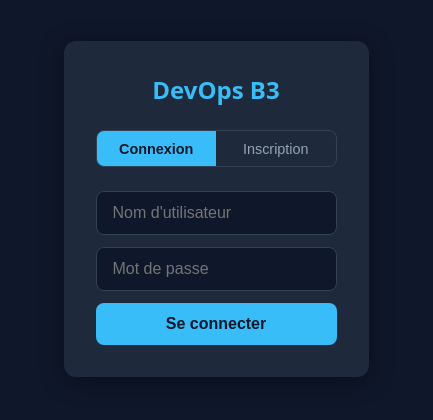
Test: AuthForm – connexion › affiche un message d'erreur si le fetch échoue (réseau)
This screenshot has width=433, height=420.
Type "alice" into the field with placeholder "Nom d'utilisateur" at (216, 213), box [96,191,336,235]
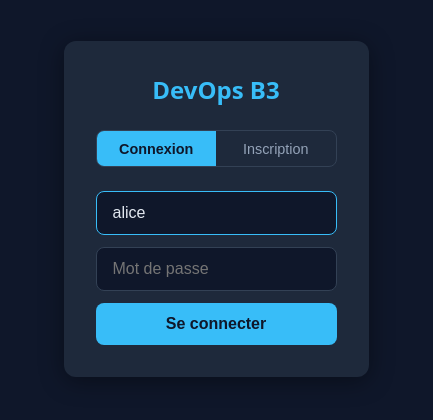
Type "secret" into the password field with placeholder "Mot de passe" at (216, 269), box [96,247,336,291]
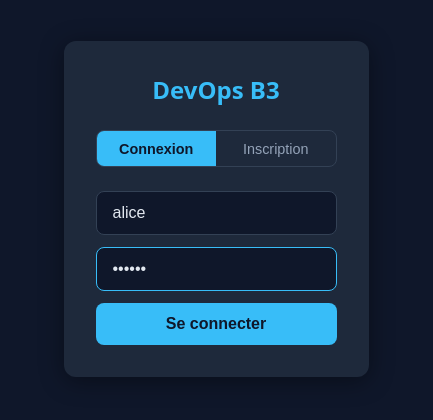
Click the button "Se connecter" at (216, 324), box [96,303,336,345]
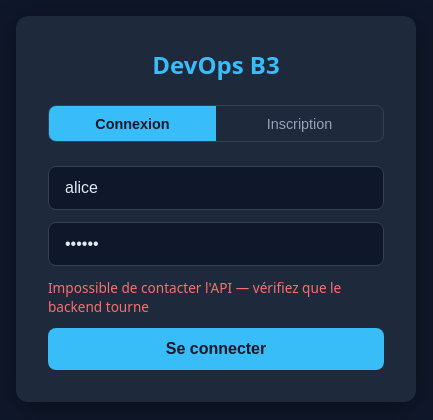
Check: the text "Impossible de contacter l'API" is shown, box [48,278,341,316]
